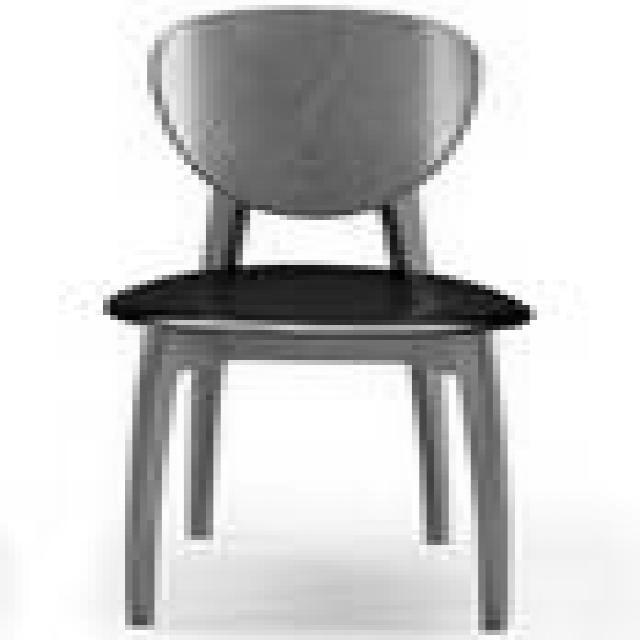chair: (86, 6, 538, 629)
